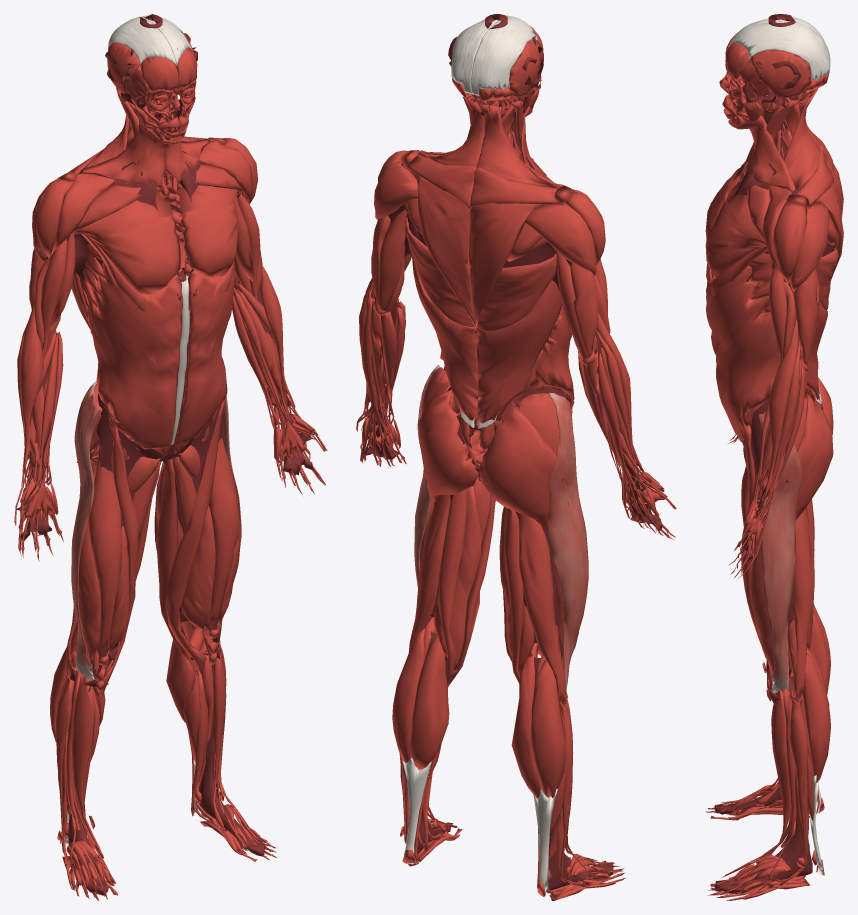
File: anatomy_body.glb
3 views of the same model, side by side, from view 1: azimuth 30°, elevation 25°; view 2: azimuth 150°, elevation 25°; view 3: azimuth 270°, elevation 25° (orthographic). The views are drawn at different scales.
Visible parts, largest first — view 1: muscle, shell, white; view 2: muscle, white, shell; view 3: muscle, white, shell.
Part boxes in pixels (x1,y1,x2,y2): muscle: [14, 28, 327, 900]; shell: [16, 14, 315, 895]; white: [60, 15, 241, 844]; muscle: [356, 27, 676, 900]; white: [402, 15, 588, 895]; shell: [364, 14, 665, 890]; muscle: [705, 32, 843, 900]; white: [728, 17, 830, 875]; shell: [714, 14, 835, 893].
Bounding box in the file's own units: 0.6663 × 1.71 × 0.2569.
